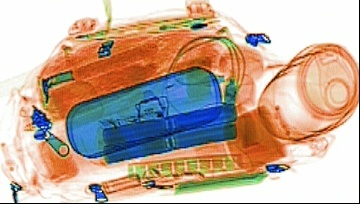powerbank: (97, 100, 238, 168)
